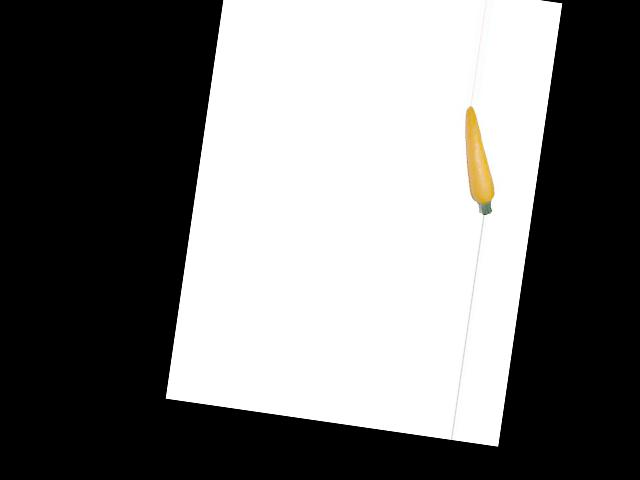carrot: (451, 105, 507, 208)
